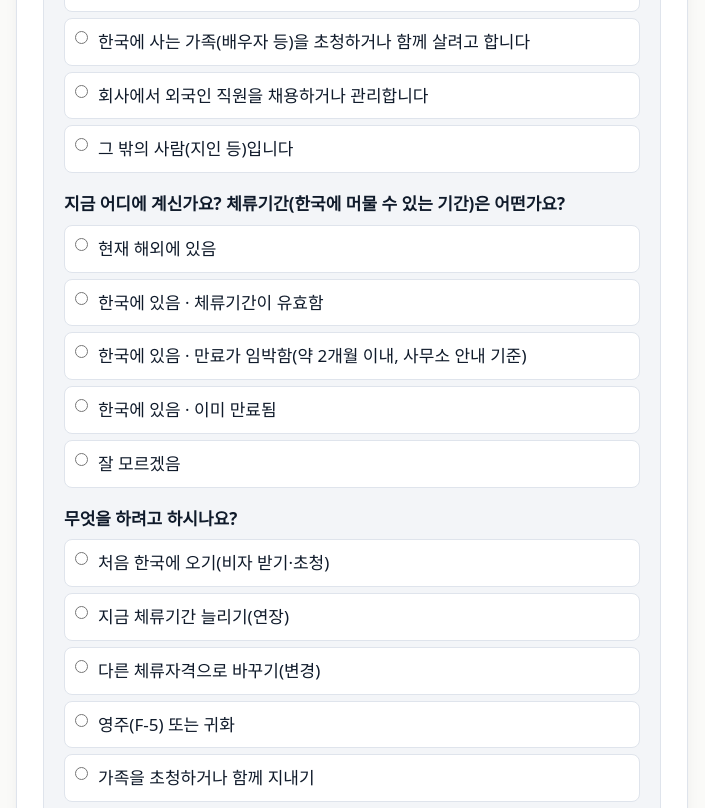
Scenario: 출입국·비자 상담 접수 질문 › 이미 만료됨을 고르면 1345 확인을 바로 안내한다
(page scrolled)
Step 1. Click the radio button labelled "한국에 있음 · 이미 만료됨" → click(82, 406), box [75,399,88,412]
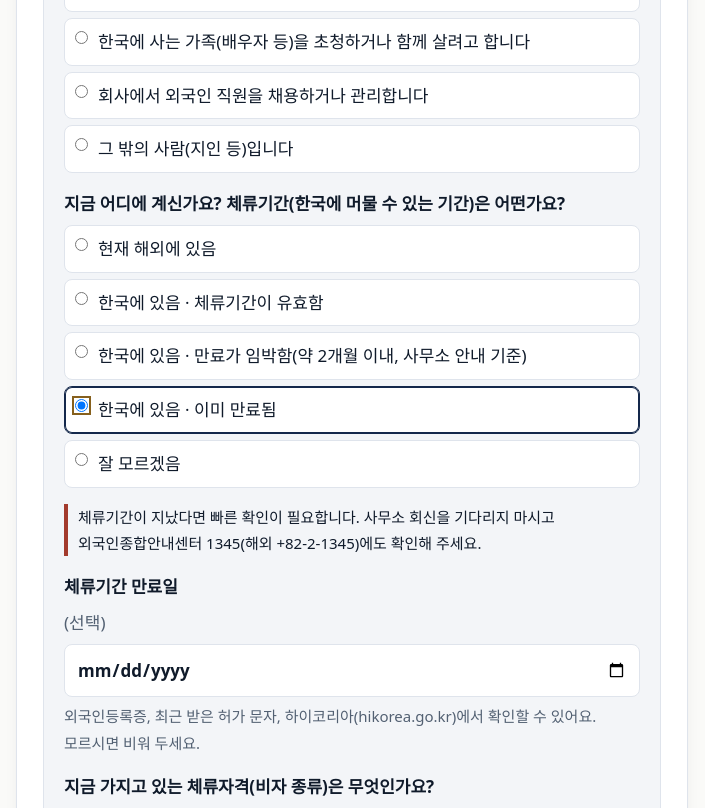
Expected: the text "외국인종합안내센터 1345(해외 +82-2-1345)" is shown, [78,506,555,553]
